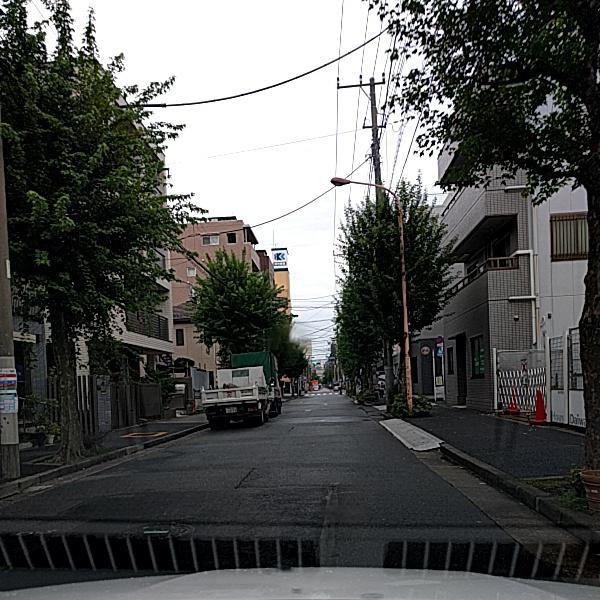D00: (233, 464, 256, 488)
D50: (119, 532, 191, 537)
